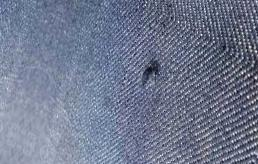knot: (139, 64, 163, 89)
